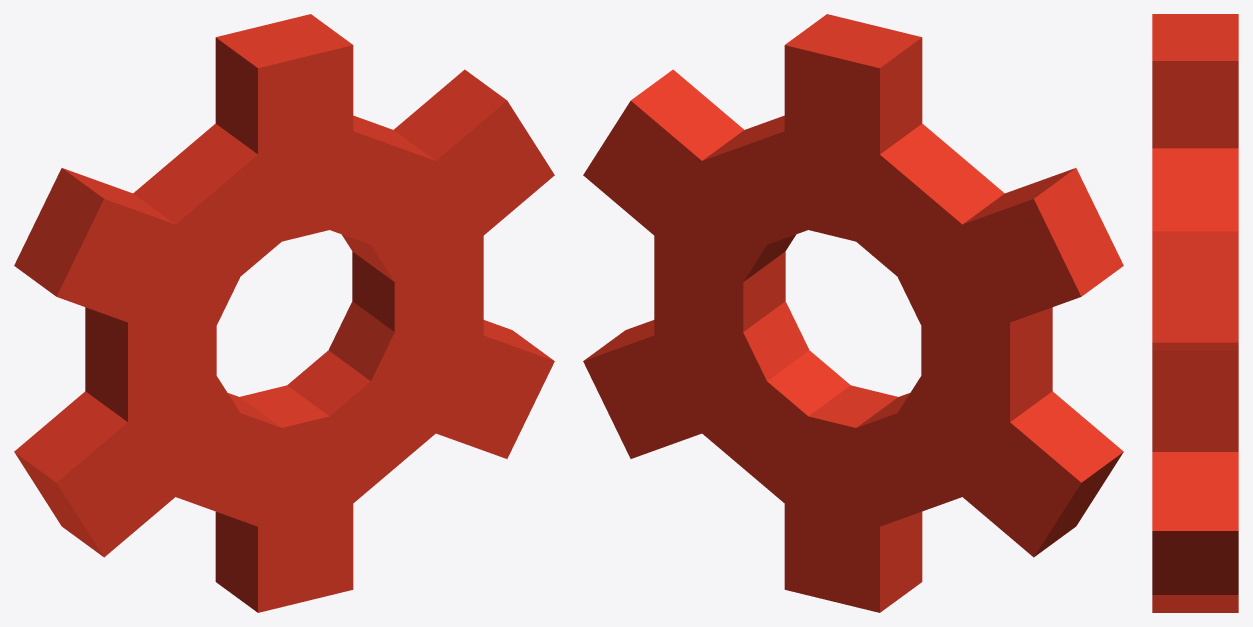
The model's file is Icon_Gear.fbx.
3 views of the same model, side by side, from view 1: azimuth 30°, elevation 25°; view 2: azimuth 150°, elevation 25°; view 3: azimuth 270°, elevation 25° (orthographic).
Visible parts, largest first — view 1: Icon_Gear; view 2: Icon_Gear; view 3: Icon_Gear.
Boxes of the visible parts, x1,y1,x2,y2 form: Icon_Gear: [14, 14, 554, 612]; Icon_Gear: [583, 14, 1123, 612]; Icon_Gear: [1152, 14, 1238, 612].
Bounding box in the file's own units: 71.96 × 75.15 × 10.62.
